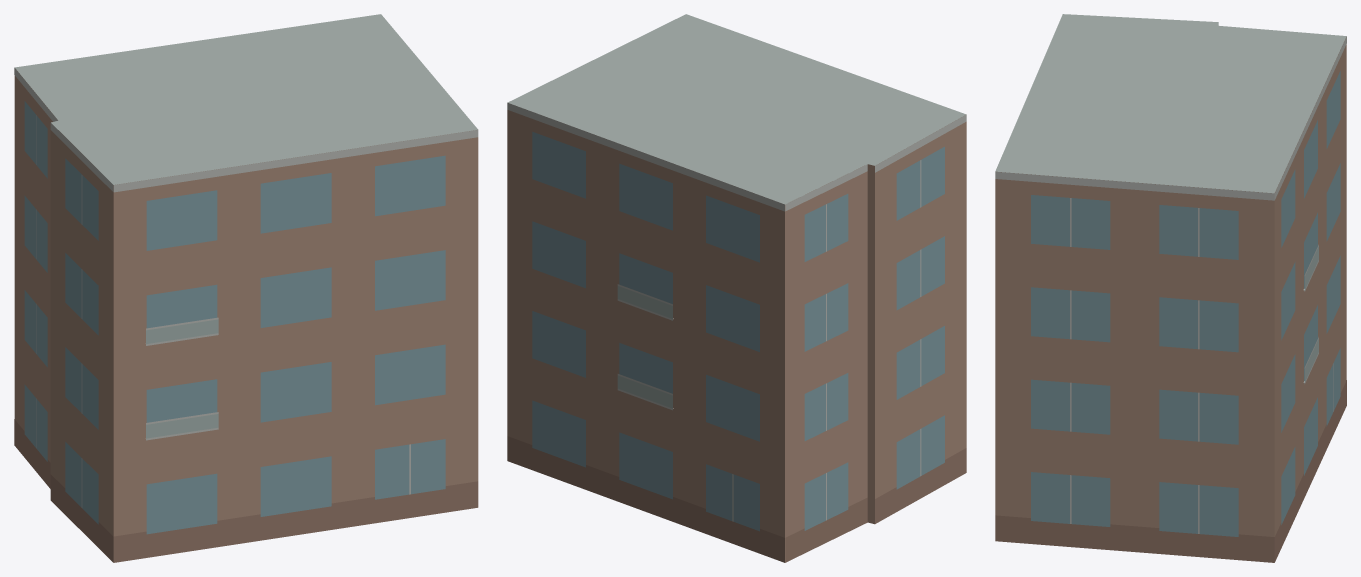
File: survey-upis-32657117.glb
The picture shows the model from 3 angles, left to right: view 1: azimuth 30°, elevation 25°; view 2: azimuth 150°, elevation 25°; view 3: azimuth 270°, elevation 25°; orthographic projection. The views are drawn at different scales.
Parts seen in each view (by area): view 1: survey-upis-32657117.tmp; view 2: survey-upis-32657117.tmp; view 3: survey-upis-32657117.tmp.
Boxes of the visible parts, x1,y1,x2,y2 form: survey-upis-32657117.tmp: (14, 14, 478, 562); survey-upis-32657117.tmp: (507, 14, 966, 562); survey-upis-32657117.tmp: (995, 14, 1346, 562).
Bounding box in the file's own units: 12.81 × 12.3 × 10.62.
